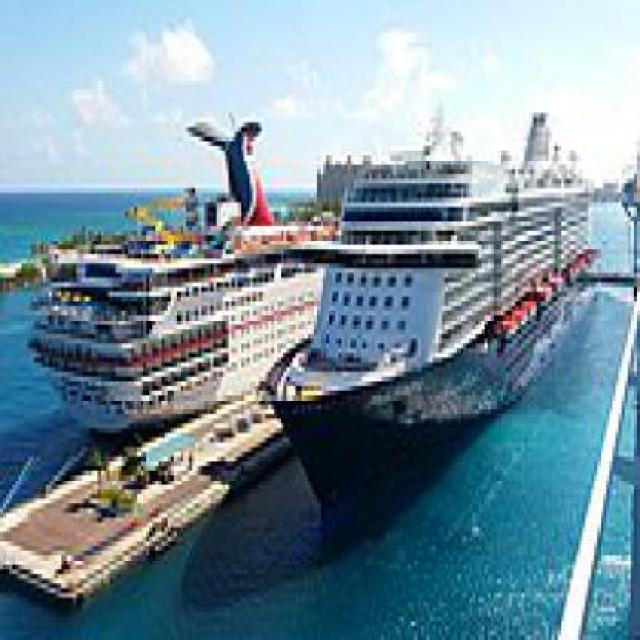cruise: (260, 99, 605, 538), (26, 114, 343, 439)
